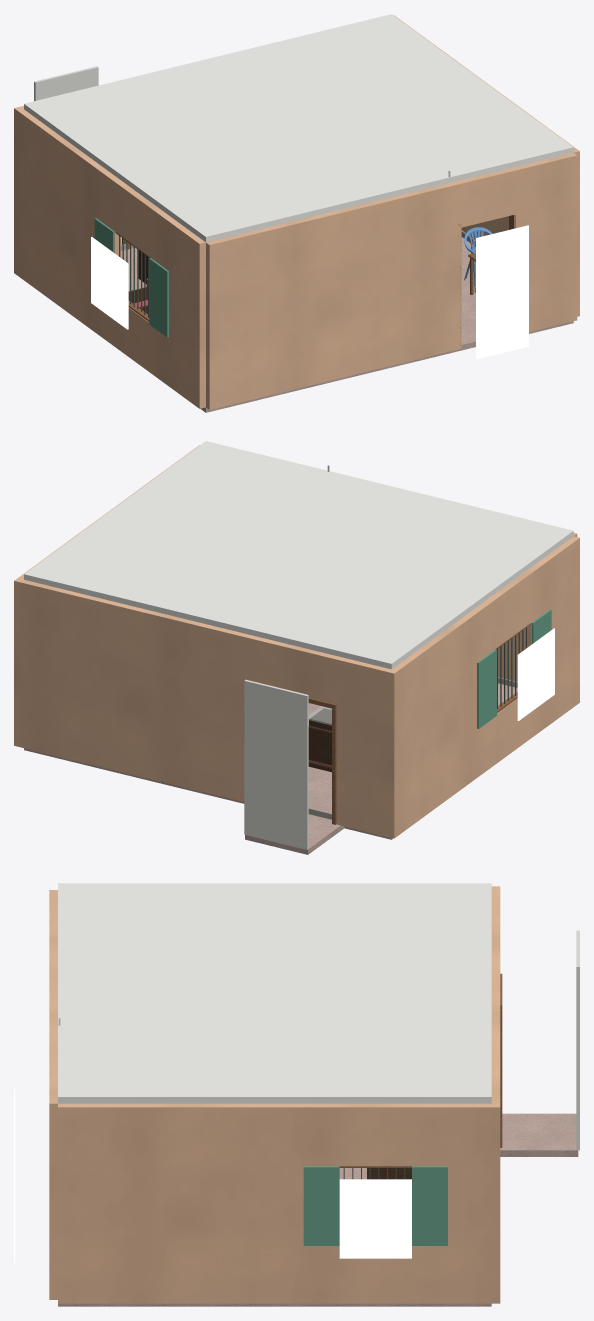
The model's file is room_house_mid.glb.
3 renders of one model, top to bottom at view 1: azimuth 30°, elevation 25°; view 2: azimuth 150°, elevation 25°; view 3: azimuth 270°, elevation 25°, orthographic. The views are drawn at different scales.
Parts seen in each view (by area): view 1: Room; view 2: Room; view 3: Room.
Boxes of the visible parts, x1,y1,x2,y2 form: Room: (14, 14, 579, 412); Room: (14, 441, 579, 854); Room: (14, 883, 579, 1306).
Bounding box in the file's own units: 8.14 × 3.31 × 7.83.
Materials: 51 (9 with a texture image).
